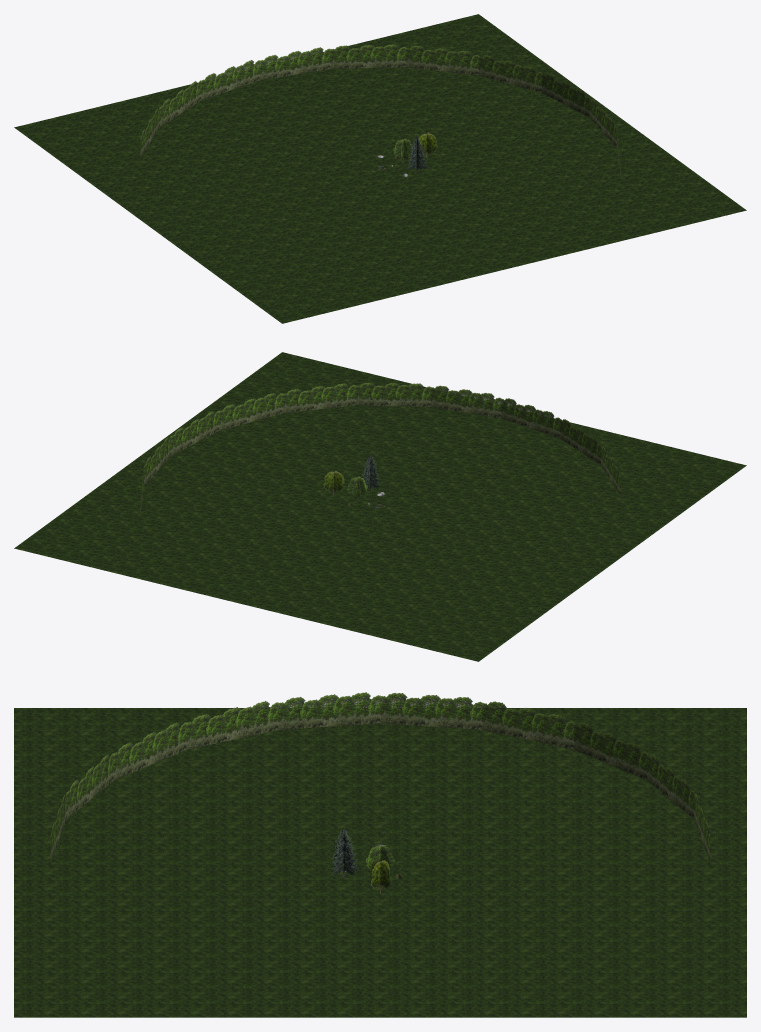
The model's file is assets.glb.
3 renders of one model, top to bottom at view 1: azimuth 30°, elevation 25°; view 2: azimuth 150°, elevation 25°; view 3: azimuth 270°, elevation 25°, orthographic. The views are drawn at different scales.
Visible parts, largest first — view 1: Plane, boundry; view 2: Plane, boundry; view 3: Plane, boundry, tree_3.
Boxes of the visible parts, x1=… form: Plane: x1=14, y1=14, x2=746, y2=323; boundry: x1=140, y1=44, x2=620, y2=177; Plane: x1=14, y1=352, x2=746, y2=661; boundry: x1=140, y1=382, x2=620, y2=515; Plane: x1=14, y1=708, x2=746, y2=1017; boundry: x1=50, y1=692, x2=710, y2=861; tree_3: x1=331, y1=829, x2=358, y2=878.
Size of what is drawn, in the model's own units: 40 by 3.18 by 40.
Materials: 20 (20 with a texture image).
